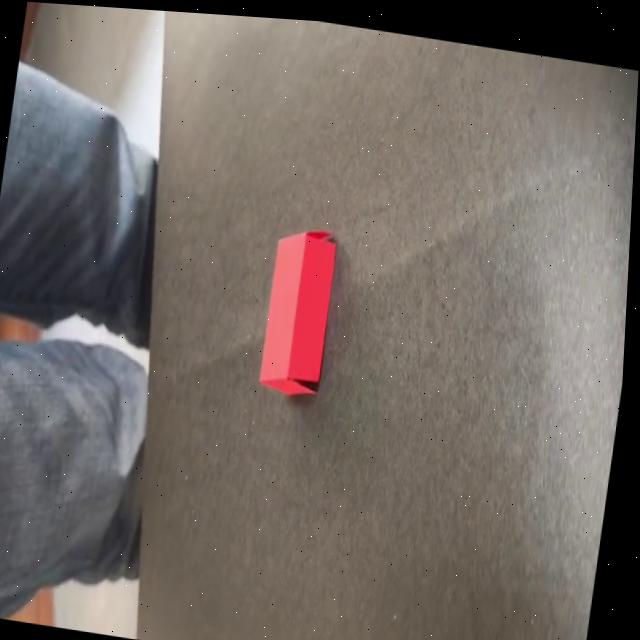red block: (255, 219, 341, 399)
